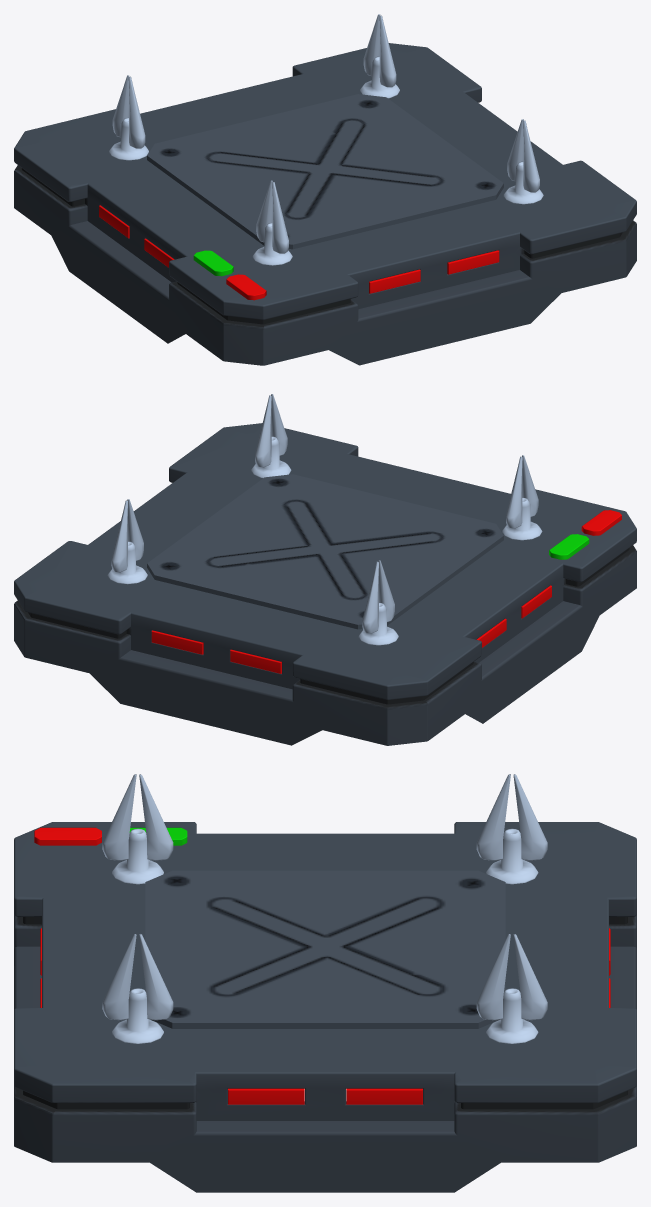
File: move_shock_half.fbx
The picture shows the model from 3 angles, top to bottom: view 1: azimuth 30°, elevation 25°; view 2: azimuth 150°, elevation 25°; view 3: azimuth 270°, elevation 25°; orthographic projection. The views are drawn at different scales.
Parts seen in each view (by area): view 1: move_shock_half; view 2: move_shock_half; view 3: move_shock_half.
Boxes of the visible parts, box(x1,y1,x2,y2) form: move_shock_half: box(14, 14, 636, 365); move_shock_half: box(14, 394, 636, 745); move_shock_half: box(14, 774, 636, 1192).
Bounding box in the file's own units: 7.2 × 2.64 × 7.2.
